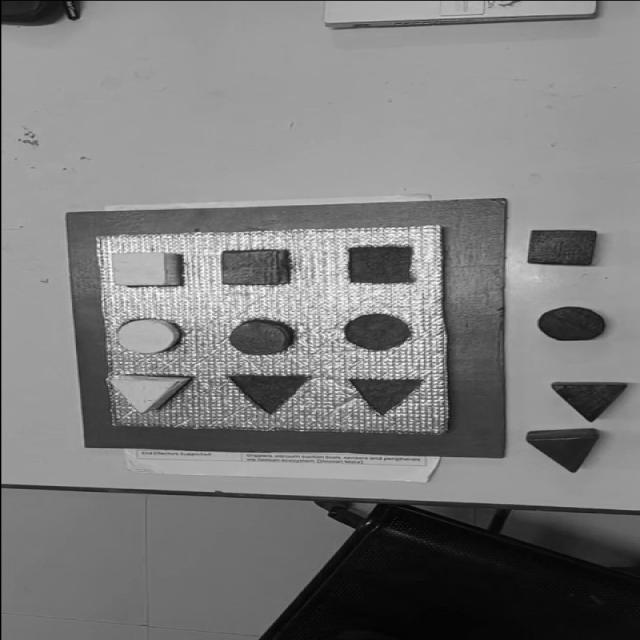bcircle: (537, 306, 607, 340)
bcube: (526, 230, 598, 266)
btriangle: (550, 382, 627, 422)
mtcircle: (341, 313, 411, 350)
mtcube: (346, 245, 416, 284)
mttriangle: (227, 372, 311, 416), (346, 377, 426, 418)
rcircle: (227, 318, 295, 356)
rcube: (219, 248, 289, 285)
rtriangle: (524, 427, 602, 474)
wb: (92, 225, 452, 433)
ycircle: (115, 318, 183, 354)
ycube: (109, 252, 181, 288)
ytriangle: (109, 373, 186, 413)
